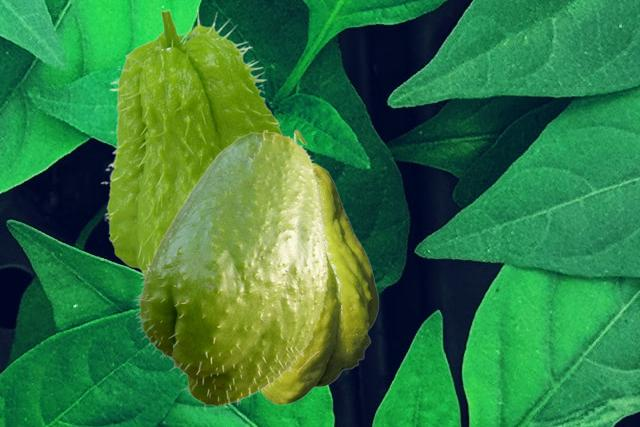sayote: (133, 130, 329, 409), (100, 5, 283, 276), (261, 129, 378, 404)
